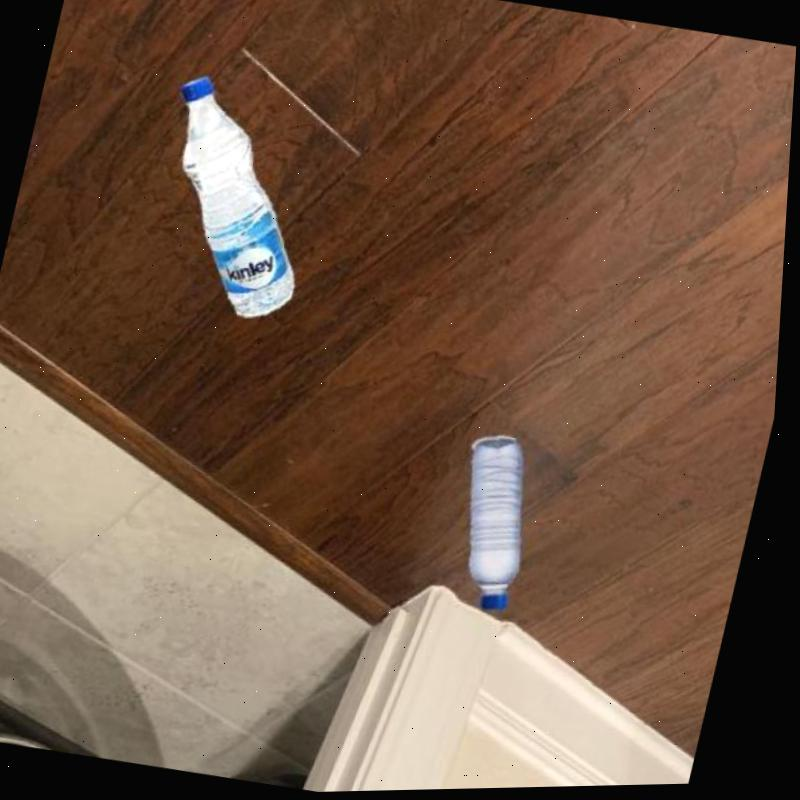botella: (133, 70, 341, 330), (440, 431, 555, 624)
